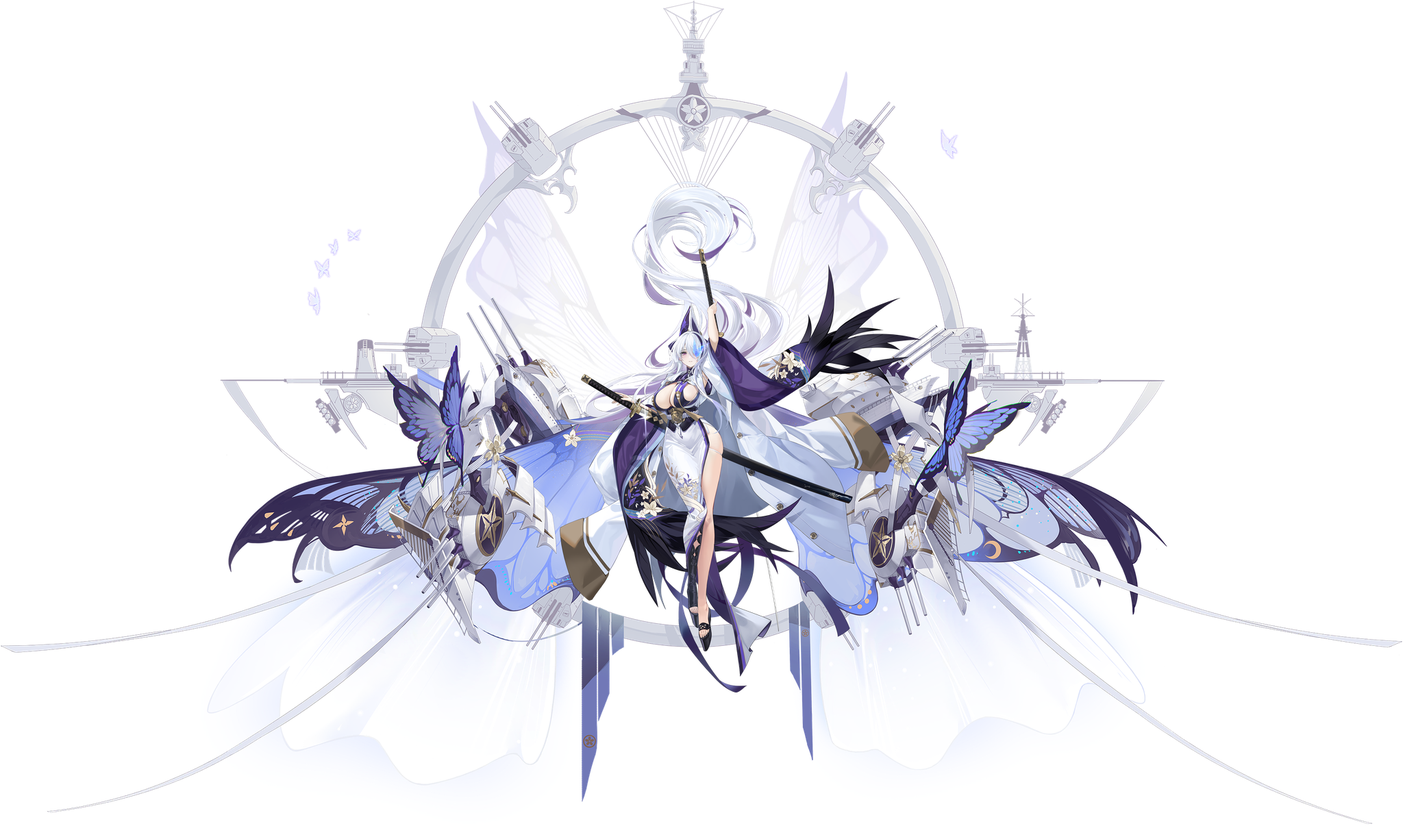person: (473, 49, 1196, 836)
